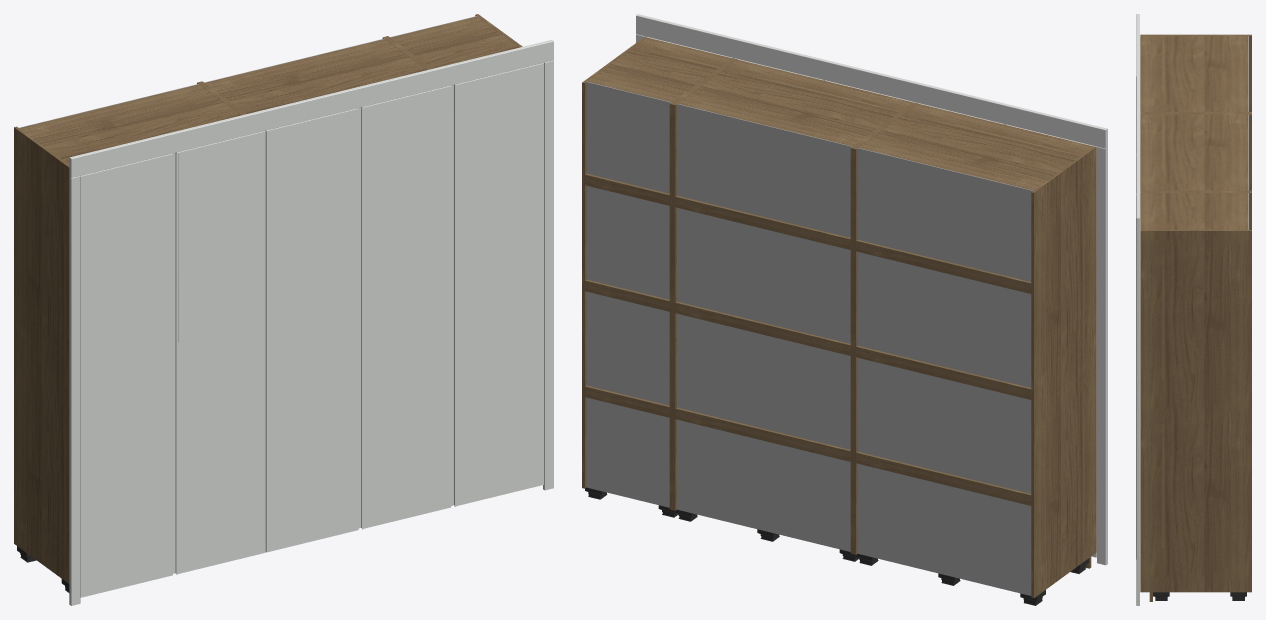
File: THST00355.glb
3 renders of one model, left to right at view 1: azimuth 30°, elevation 25°; view 2: azimuth 150°, elevation 25°; view 3: azimuth 270°, elevation 25°, orthographic. The views are drawn at different scales.
Visible parts, largest first — view 1: node_577_2_StaticMeshComponent0, node_343_StaticMeshComponent0, node_578_2_StaticMeshComponent0, node_344_StaticMeshComponent0, node_926_2_StaticMeshComponent0, node_348_StaticMeshComponent0, node_515_2_StaticMeshComponent0, node_346_StaticMeshComponent0, node_580_2_StaticMeshComponent0, node_946_StaticMeshComponent0, node_675_StaticMeshComponent0, node_928_2_StaticMeshComponent0 (+5 smaller); view 2: node_347_StaticMeshComponent0, node_581_2_StaticMeshComponent0, node_929_2_StaticMeshComponent0, node_348_StaticMeshComponent0, node_346_StaticMeshComponent0, node_580_2_StaticMeshComponent0, node_515_2_StaticMeshComponent0, node_928_2_StaticMeshComponent0, node_946_StaticMeshComponent0, node_596_StaticMeshComponent0, node_361_StaticMeshComponent0, node_595_StaticMeshComponent0 (+13 smaller); view 3: node_931_2_StaticMeshComponent0, node_580_2_StaticMeshComponent0, node_346_StaticMeshComponent0, node_928_2_StaticMeshComponent0, node_676_StaticMeshComponent0, node_516_StaticMeshComponent0, node_348_StaticMeshComponent0, node_582_StaticMeshComponent0, node_927_StaticMeshComponent0, node_930_StaticMeshComponent0, node_349_StaticMeshComponent0, node_583_StaticMeshComponent0.
Part boxes in pixels (x1,y1,x2,y2): node_577_2_StaticMeshComponent0: (265, 108, 358, 552); node_343_StaticMeshComponent0: (80, 153, 172, 597); node_578_2_StaticMeshComponent0: (363, 85, 451, 528); node_344_StaticMeshComponent0: (177, 131, 265, 573); node_926_2_StaticMeshComponent0: (455, 63, 543, 505); node_348_StaticMeshComponent0: (14, 126, 69, 583); node_515_2_StaticMeshComponent0: (71, 41, 553, 177); node_346_StaticMeshComponent0: (19, 84, 241, 164); node_580_2_StaticMeshComponent0: (205, 39, 426, 113); node_946_StaticMeshComponent0: (71, 176, 80, 605); node_675_StaticMeshComponent0: (545, 61, 553, 489); node_928_2_StaticMeshComponent0: (390, 16, 519, 68); node_347_StaticMeshComponent0: (857, 148, 1032, 595); node_581_2_StaticMeshComponent0: (677, 103, 852, 551); node_929_2_StaticMeshComponent0: (586, 81, 671, 507); node_348_StaticMeshComponent0: (1031, 146, 1096, 598); node_346_StaticMeshComponent0: (858, 103, 1093, 190); node_580_2_StaticMeshComponent0: (677, 59, 912, 146); node_515_2_StaticMeshComponent0: (636, 16, 1105, 148); node_928_2_StaticMeshComponent0: (587, 37, 731, 102); node_946_StaticMeshComponent0: (1097, 147, 1105, 564); node_596_StaticMeshComponent0: (675, 407, 850, 461); node_361_StaticMeshComponent0: (856, 345, 1031, 399); node_595_StaticMeshComponent0: (675, 301, 850, 355); node_931_2_StaticMeshComponent0: (1140, 230, 1251, 592); node_580_2_StaticMeshComponent0: (1140, 114, 1248, 190); node_346_StaticMeshComponent0: (1140, 36, 1248, 111); node_928_2_StaticMeshComponent0: (1140, 193, 1248, 229); node_676_StaticMeshComponent0: (1136, 235, 1139, 605); node_516_StaticMeshComponent0: (1136, 14, 1139, 234); node_348_StaticMeshComponent0: (1140, 34, 1251, 111); node_582_StaticMeshComponent0: (1140, 113, 1251, 190); node_927_StaticMeshComponent0: (1136, 194, 1136, 559); node_930_StaticMeshComponent0: (1140, 192, 1251, 229); node_349_StaticMeshComponent0: (1140, 112, 1251, 113); node_583_StaticMeshComponent0: (1140, 190, 1251, 191).
Size of the model in its own units: 2.6 by 2.3 by 0.6236.
Materials: 8 (5 with a texture image).
